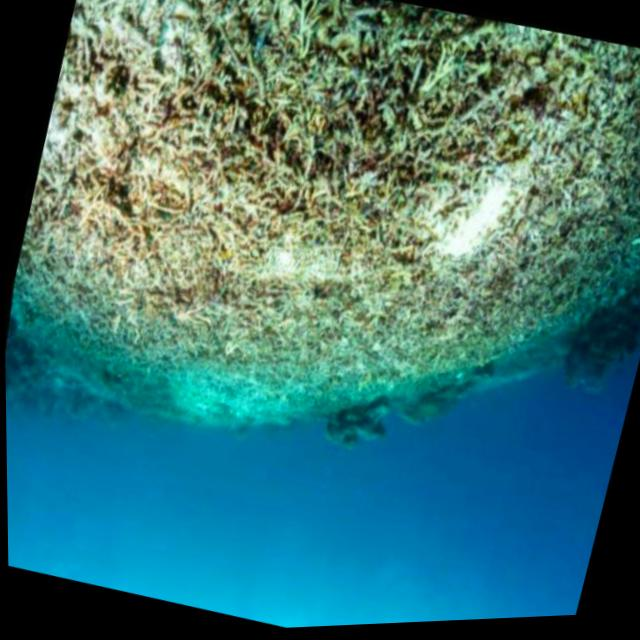Dead Coral: (26, 0, 608, 471)
